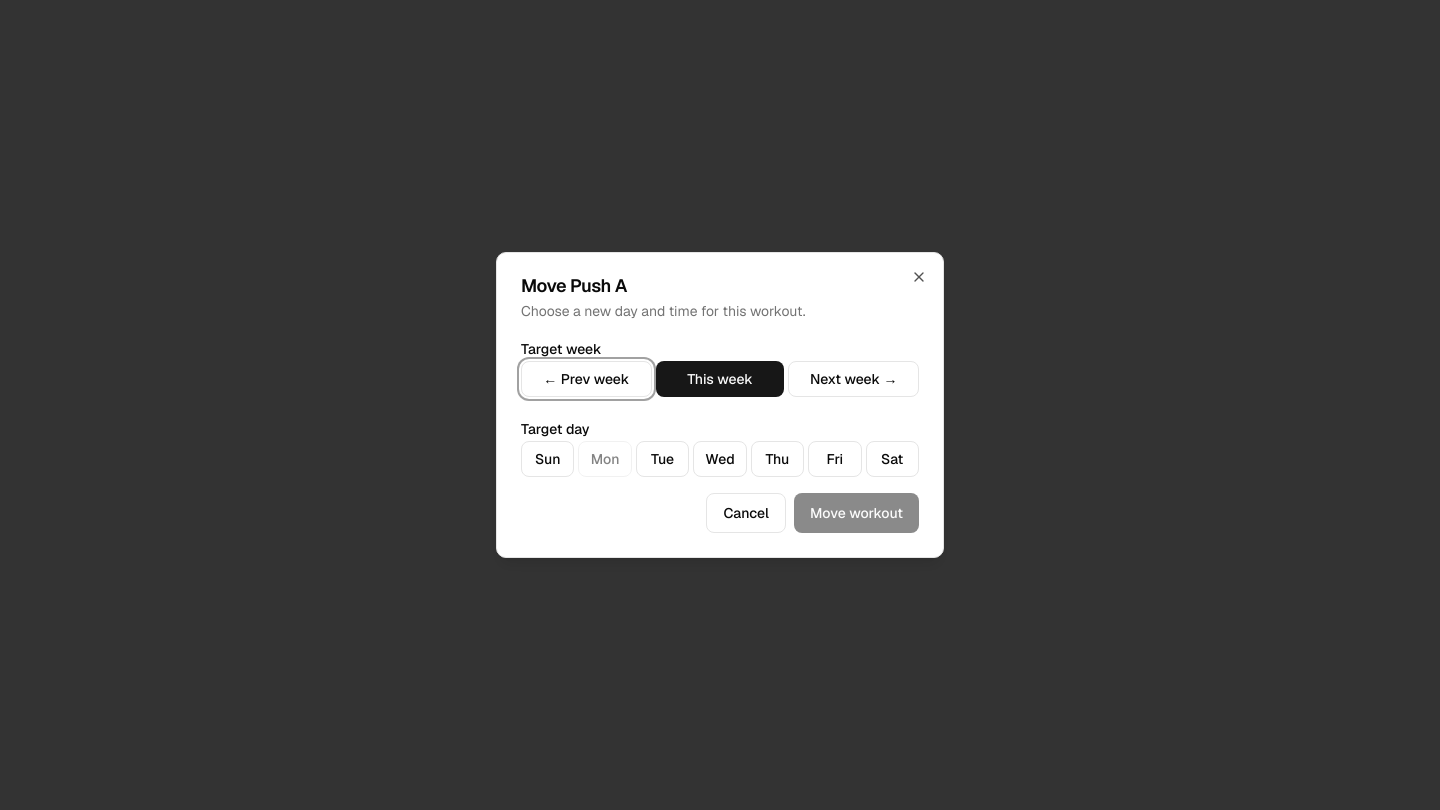
MoveWorkoutModal — characterization (post-T202) › time and duration pre-fill › pre-fills duration from sourceDuration
Click the button "Tue". click: (662, 459)
box: [636,441,689,477]
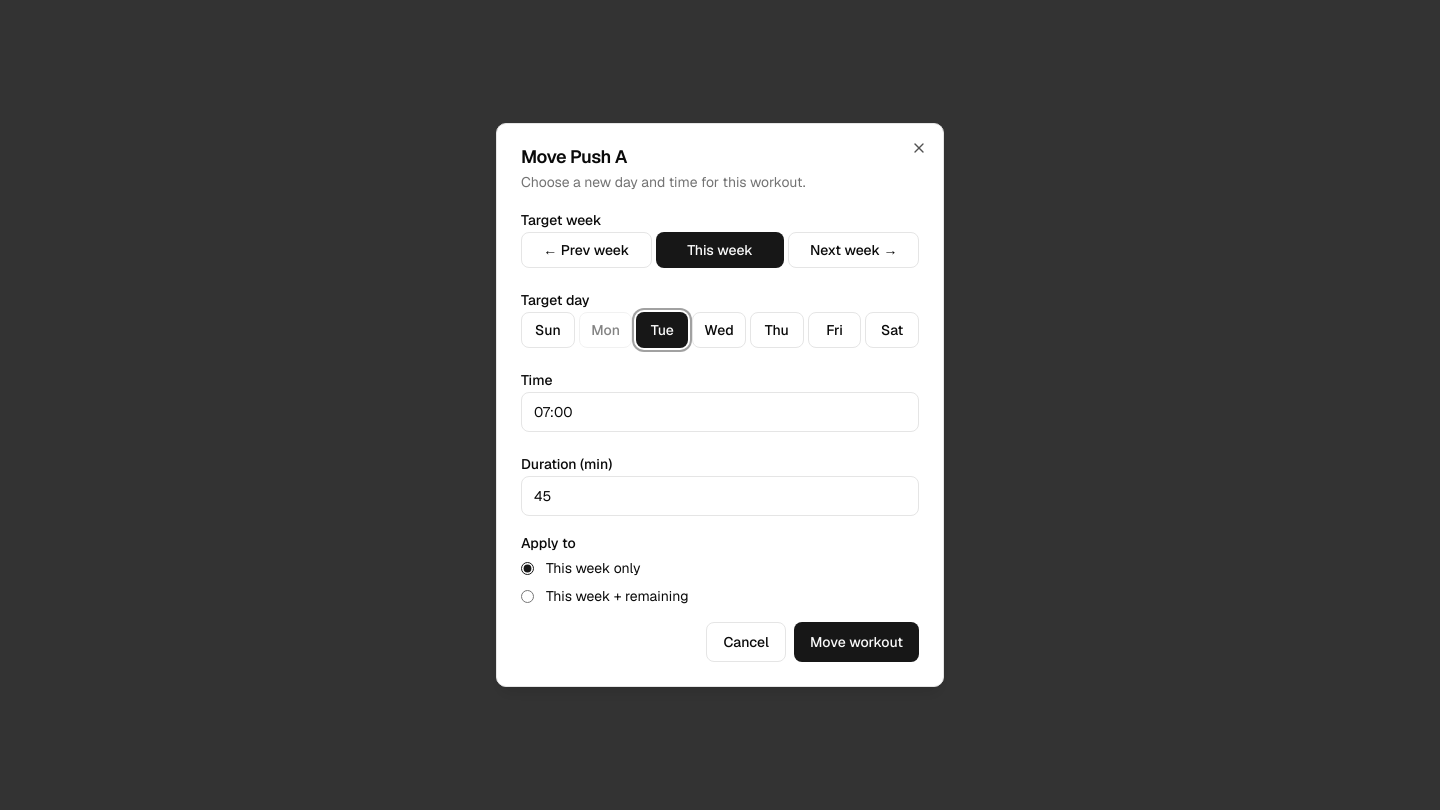
Expected: the number field labelled "Duration (min)" holds "45", [521,476,919,516]
